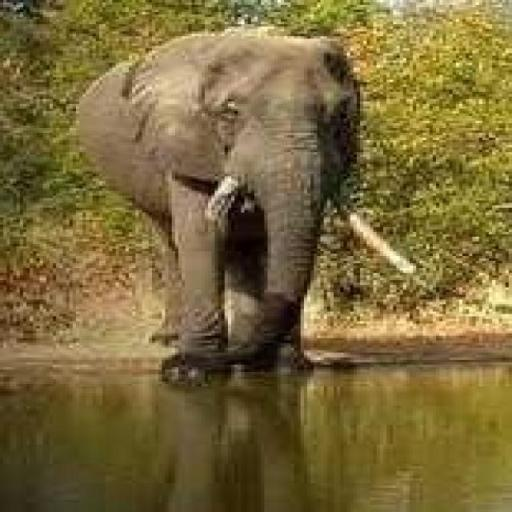Elephant: (72, 22, 416, 382)
